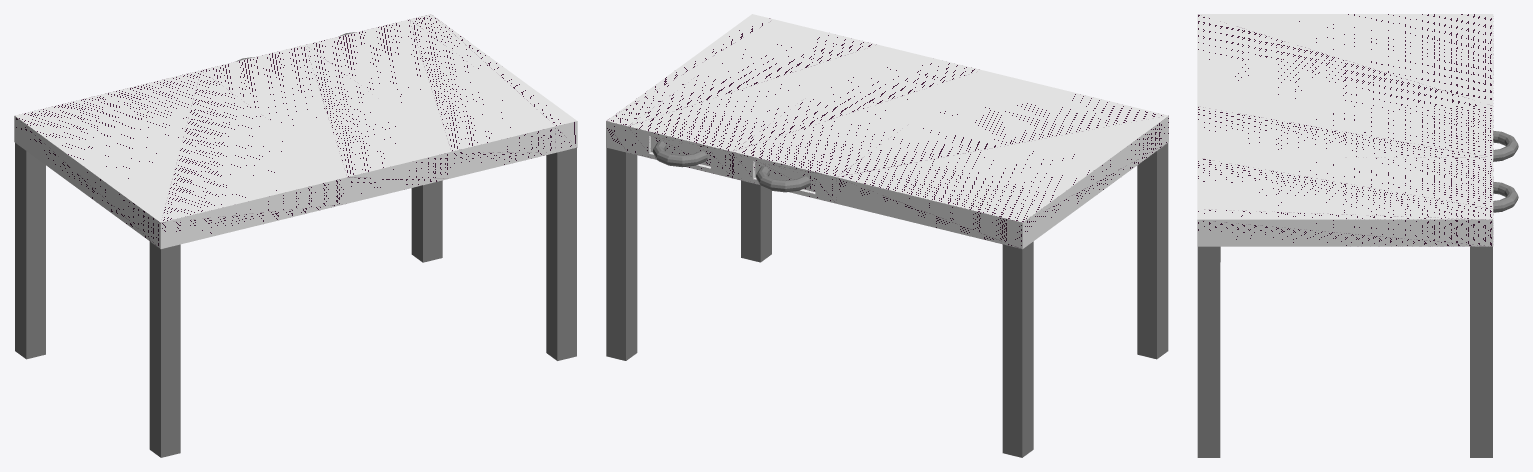
File: Plastic_Table_Short.fbx
3 renders of one model, left to right at view 1: azimuth 30°, elevation 25°; view 2: azimuth 150°, elevation 25°; view 3: azimuth 270°, elevation 25°, orthographic.
Visible parts, largest first — view 1: Plastic_Desk; view 2: Plastic_Desk; view 3: Plastic_Desk.
Part boxes in pixels (x1=…): Plastic_Desk: x1=14, y1=14, x2=577, y2=457; Plastic_Desk: x1=606, y1=14, x2=1168, y2=457; Plastic_Desk: x1=1197, y1=14, x2=1518, y2=457.
Size of the model in its own units: 1020 by 551 by 673.
Materials: 1 (1 with a texture image).
